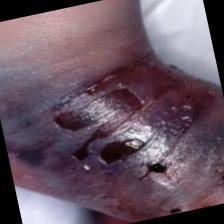extravasation-wound: (23, 62, 196, 204)
